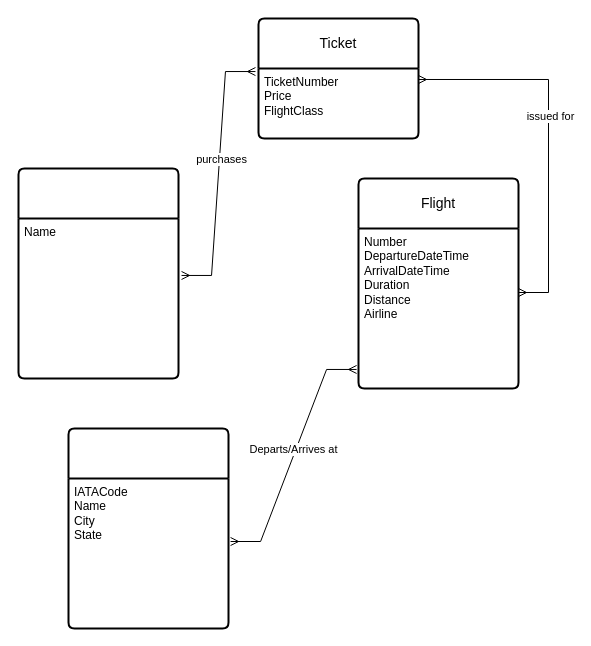
Some shapes in this 591 by 646 pixel diagram are drawn without their labels. Each missing label, with the box of its shape:
Airport: (67, 427, 229, 629)
Passenger: (17, 167, 179, 379)
